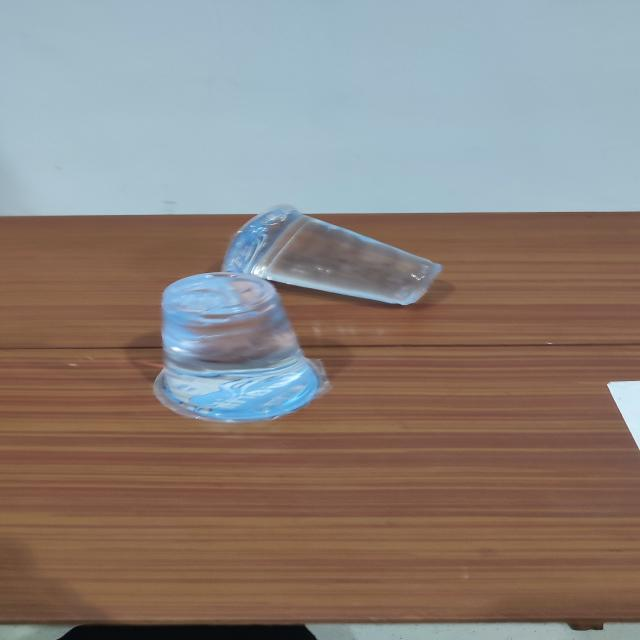air gelas: (202, 196, 476, 315), (160, 266, 336, 422)
